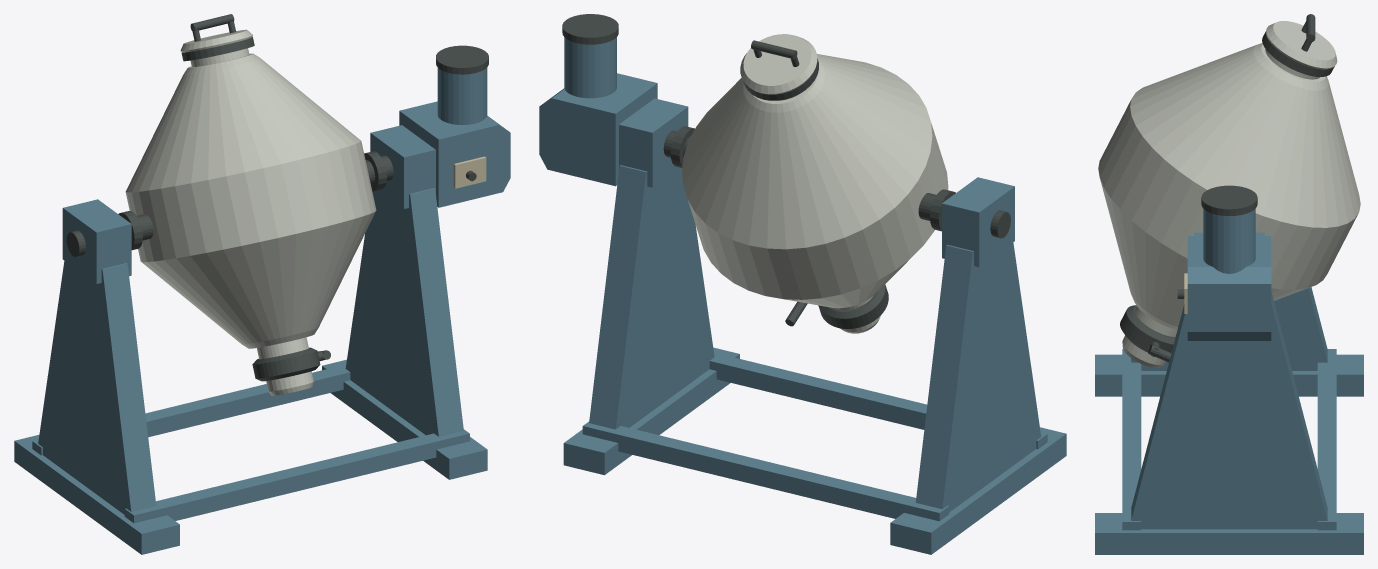
3 views of the same model, side by side, from view 1: azimuth 30°, elevation 25°; view 2: azimuth 150°, elevation 25°; view 3: azimuth 270°, elevation 25° (orthographic). The views are drawn at different scales.
Visible parts, largest first — view 1: WholeOpposedDoubleConeAndCentralCylinder, WholeTallTaperedPedestal0, WholeTallTaperedPedestal1, WholeLowTransverseCrossmember0, WholeRightReductionDriveExterior, WholeLongGroundSkid0, WholeLowTransverseCrossmember1, WholeUpperBearingBlockExterior0, WholeLongGroundSkid1, WholeUpperBearingBlockExterior1, WholeUprightDriveMotorExterior, WholeClosedLowerValveBodyExterior (+7 smaller); view 2: WholeOpposedDoubleConeAndCentralCylinder, WholeTallTaperedPedestal0, WholeTallTaperedPedestal1, WholeLowTransverseCrossmember1, WholeRightReductionDriveExterior, WholeLowTransverseCrossmember0, WholeLongGroundSkid0, WholeUpperBearingBlockExterior0, WholeLongGroundSkid1, WholeUpperBearingBlockExterior1, WholeClosedUpperAccessLid, WholeUprightDriveMotorExterior (+3 smaller); view 3: WholeOpposedDoubleConeAndCentralCylinder, WholeTallTaperedPedestal1, WholeLongGroundSkid1, WholeRightReductionDriveExterior, WholeLongGroundSkid0, WholeTallTaperedPedestal0, WholeLowTransverseCrossmember1, WholeLowTransverseCrossmember0, WholeUprightDriveMotorExterior, WholeClosedUpperAccessLid, WholeDriveMotorTopCap, WholeClosedLowerValveBodyExterior (+3 smaller).
Part boxes in pixels (x1,y1,x2,y2): WholeOpposedDoubleConeAndCentralCylinder: [125, 53, 376, 348]; WholeTallTaperedPedestal0: [38, 261, 156, 514]; WholeTallTaperedPedestal1: [345, 188, 463, 436]; WholeLowTransverseCrossmember0: [124, 429, 469, 523]; WholeRightReductionDriveExterior: [399, 101, 510, 207]; WholeLongGroundSkid0: [14, 435, 179, 554]; WholeLowTransverseCrossmember1: [32, 364, 350, 455]; WholeUpperBearingBlockExterior0: [62, 199, 131, 283]; WholeLongGroundSkid1: [322, 359, 487, 479]; WholeUpperBearingBlockExterior1: [370, 125, 435, 208]; WholeUprightDriveMotorExterior: [437, 67, 487, 124]; WholeClosedLowerValveBodyExterior: [252, 347, 320, 381]; WholeOpposedDoubleConeAndCentralCylinder: [682, 54, 948, 308]; WholeTallTaperedPedestal0: [915, 243, 1041, 512]; WholeTallTaperedPedestal1: [589, 165, 714, 429]; WholeLowTransverseCrossmember1: [582, 421, 949, 521]; WholeRightReductionDriveExterior: [539, 73, 657, 186]; WholeLowTransverseCrossmember0: [709, 352, 1047, 449]; WholeLongGroundSkid0: [890, 427, 1066, 554]; WholeUpperBearingBlockExterior0: [942, 177, 1014, 267]; WholeLongGroundSkid1: [563, 347, 739, 475]; WholeUpperBearingBlockExterior1: [619, 98, 688, 187]; WholeClosedUpperAccessLid: [740, 34, 817, 94]; WholeUprightDriveMotorExterior: [564, 37, 616, 98]; WholeOpposedDoubleConeAndCentralCylinder: [1098, 43, 1360, 329]; WholeTallTaperedPedestal1: [1131, 291, 1327, 529]; WholeLongGroundSkid1: [1095, 513, 1363, 554]; WholeRightReductionDriveExterior: [1187, 236, 1271, 340]; WholeLongGroundSkid0: [1095, 354, 1363, 396]; WholeTallTaperedPedestal0: [1131, 287, 1327, 370]; WholeLowTransverseCrossmember1: [1317, 349, 1336, 530]; WholeLowTransverseCrossmember0: [1122, 349, 1141, 530]; WholeUprightDriveMotorExterior: [1203, 209, 1255, 273]; WholeClosedUpperAccessLid: [1266, 21, 1337, 69]; WholeDriveMotorTopCap: [1201, 185, 1257, 215]; WholeClosedLowerValveBodyExterior: [1120, 305, 1175, 352].
Size of the model in its own units: 2.5 by 2.39 by 1.32.
